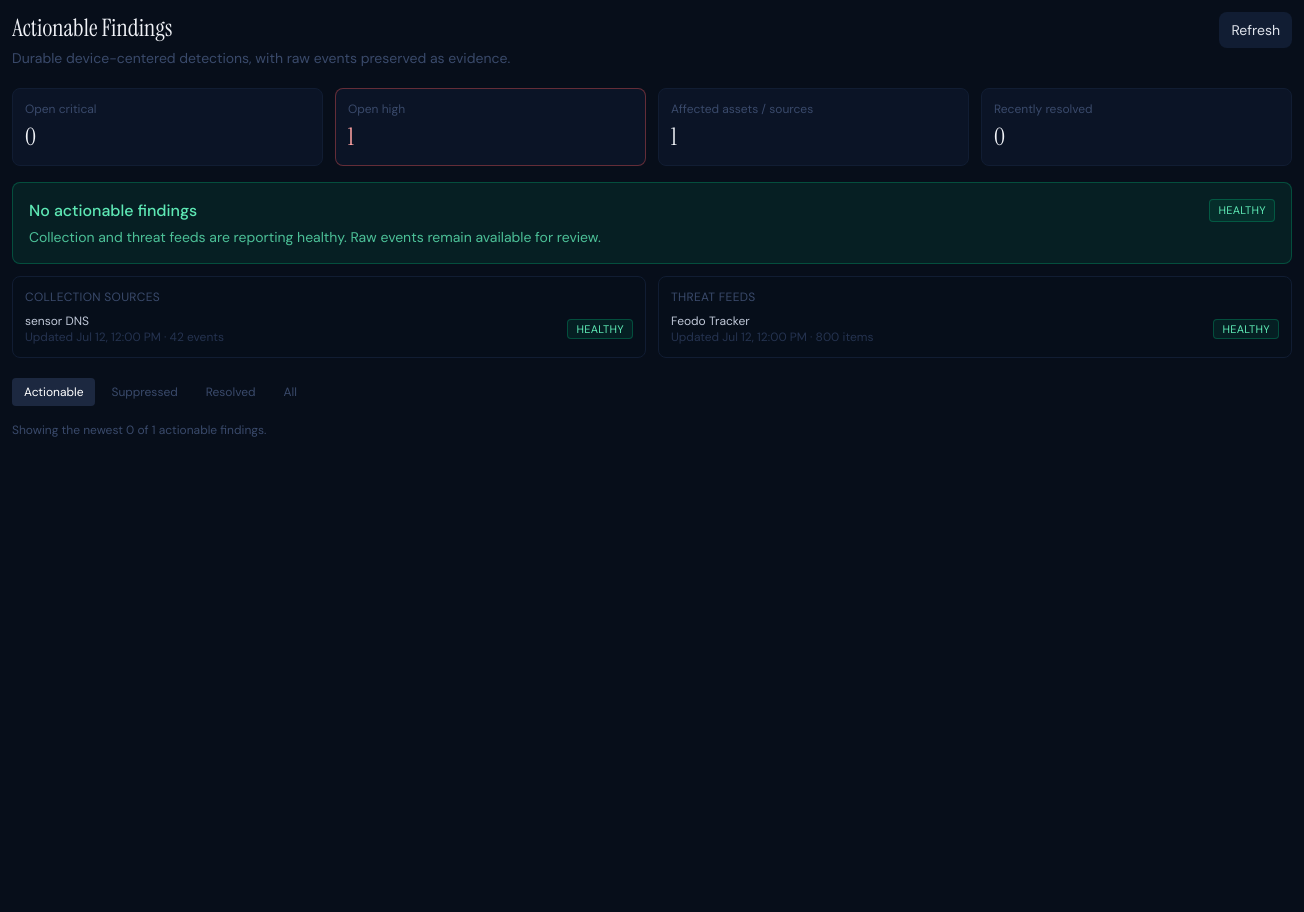
findings workspace › excludes suppressed findings from the default queue with explicit access
The width and height of the screenshot is (1304, 912).
Check: the text "No actionable findings" is shown, box [29, 200, 197, 221]
Check: the text "Suppressed camera DNS pattern" is not shown
Step 1. Click the button "Suppressed" → [145, 392], box [100, 378, 190, 406]
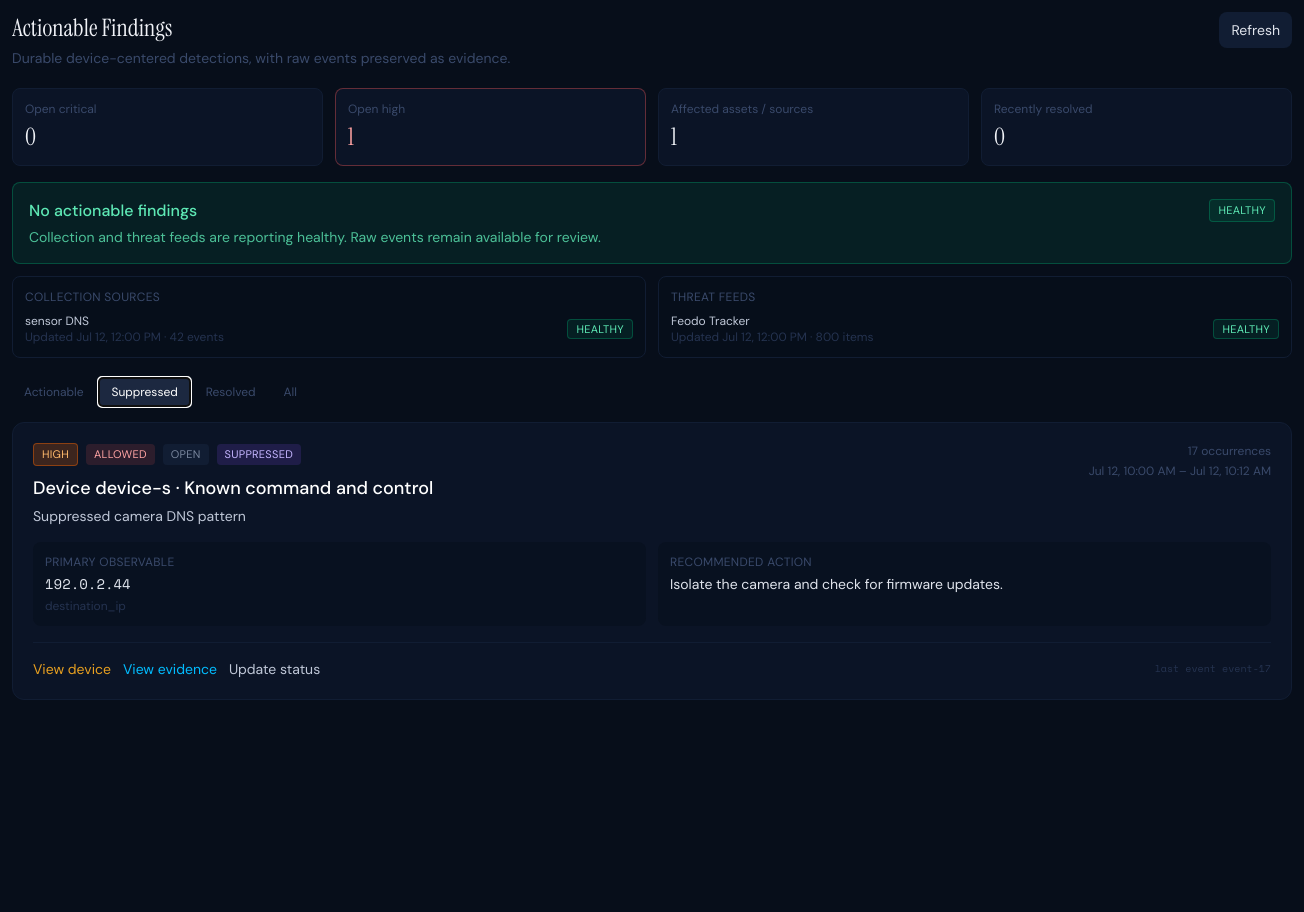
Check: the text "Suppressed camera DNS pattern" is shown, box [33, 506, 246, 524]
